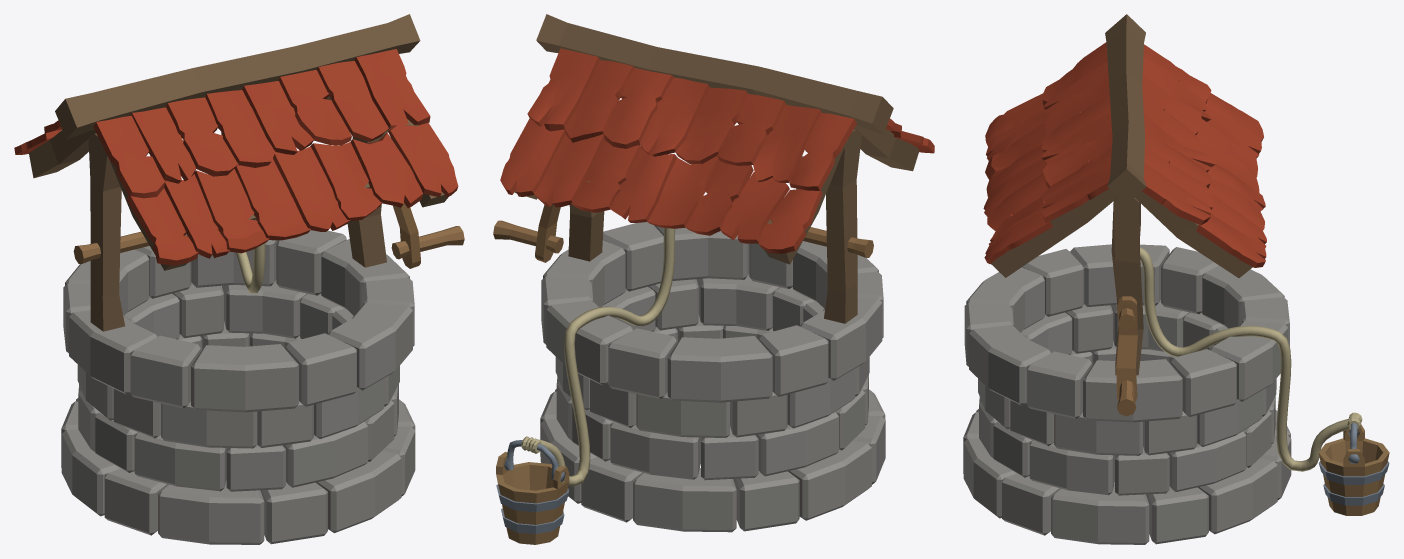
File: Well.fbx
3 renders of one model, left to right at view 1: azimuth 30°, elevation 25°; view 2: azimuth 150°, elevation 25°; view 3: azimuth 270°, elevation 25°, orthographic. The views are drawn at different scales.
Visible parts, largest first — view 1: MainWell, Roof, Frame, Wrench, Rope; view 2: MainWell, Roof, Frame, BucketMain, Rope, Wrench, BucketHandle; view 3: MainWell, Roof, Frame, Rope, BucketMain, Wrench.
Boxes of the visible parts, <box> form: MainWell: <box>61,230,415,544</box>; Roof: <box>14,49,458,265</box>; Frame: <box>29,14,448,331</box>; Wrench: <box>73,203,464,268</box>; Rope: <box>236,243,265,293</box>; MainWell: <box>540,222,885,532</box>; Roof: <box>500,48,934,253</box>; Frame: <box>514,14,919,323</box>; BucketMain: <box>496,452,569,544</box>; Rope: <box>537,228,675,486</box>; Wrench: <box>493,204,873,262</box>; BucketHandle: <box>504,440,565,482</box>; MainWell: <box>963,244,1291,544</box>; Roof: <box>983,42,1266,267</box>; Frame: <box>991,14,1252,375</box>; Rope: <box>1140,247,1349,471</box>; BucketMain: <box>1318,424,1389,515</box>; Wrench: <box>1116,296,1137,416</box>.
Size of the model in its own units: 160 by 161 by 161.
